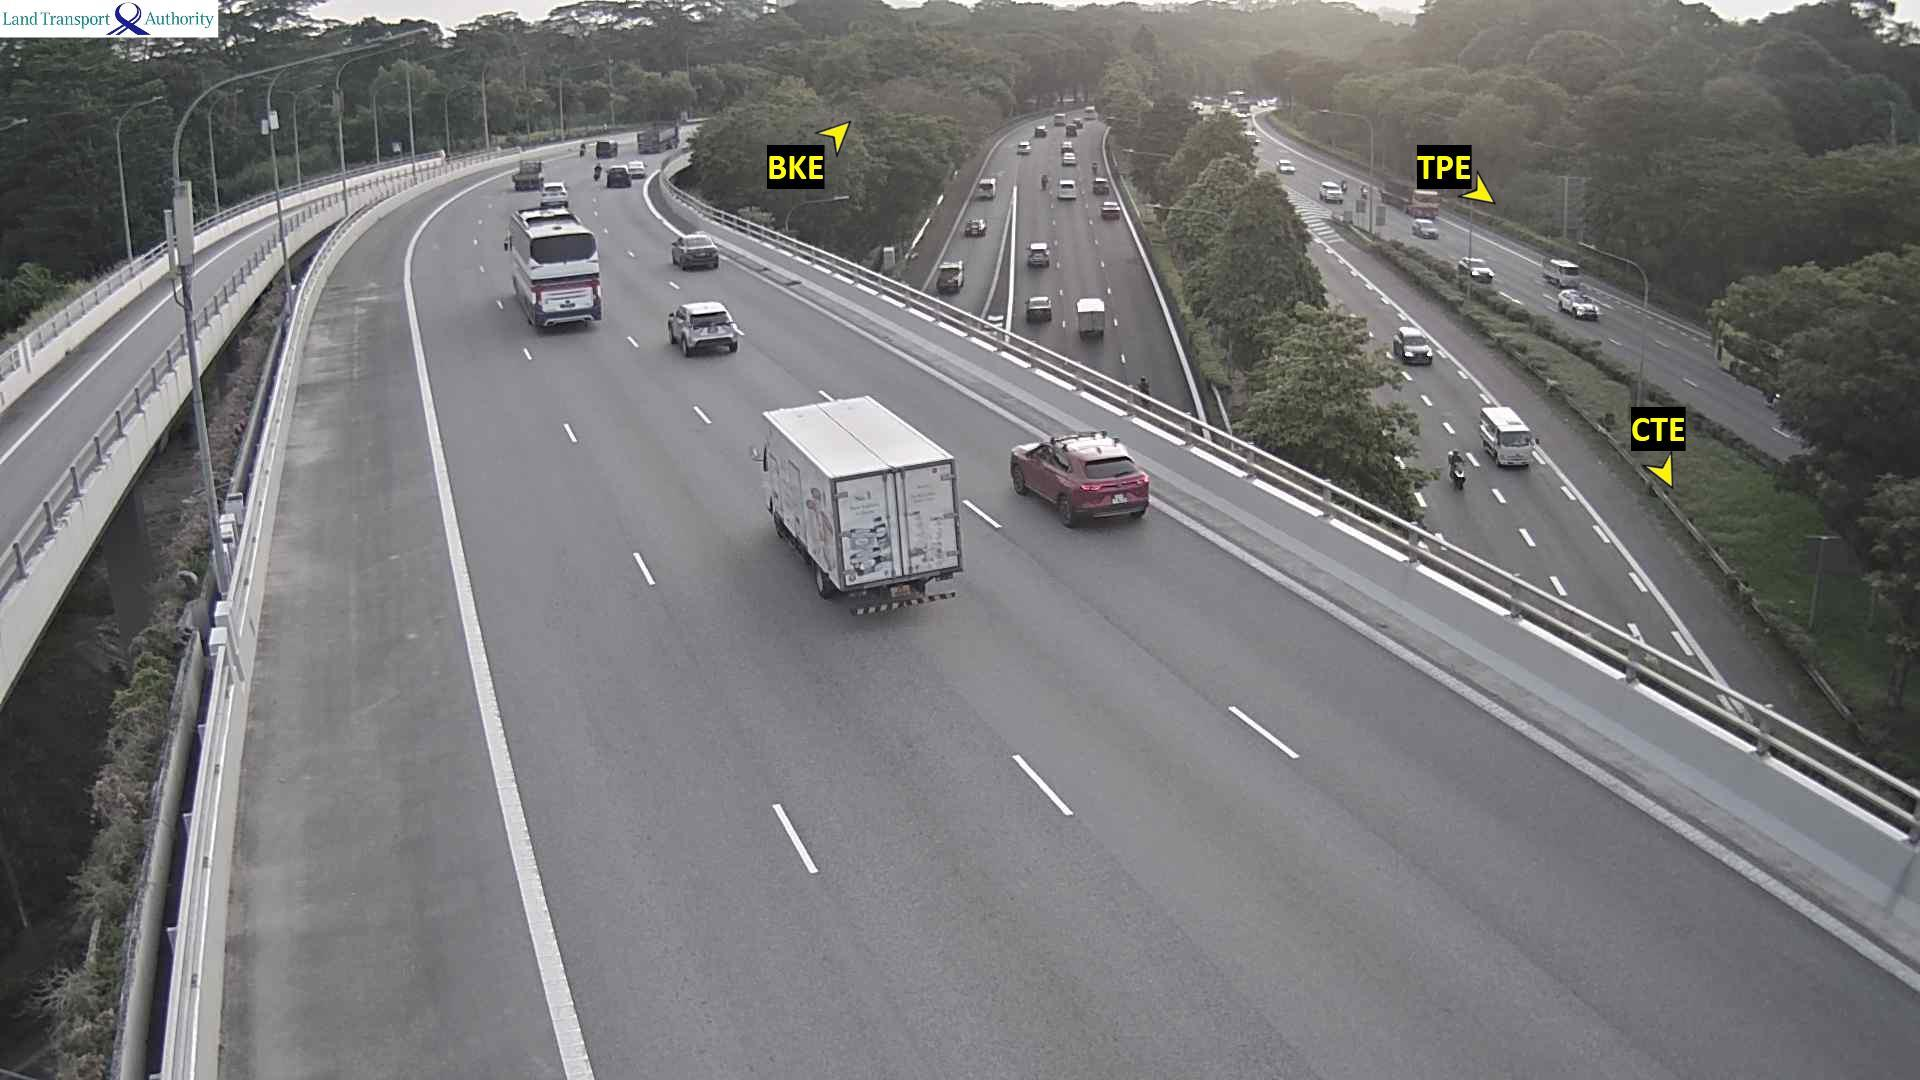incoming: (1495, 422, 1534, 469), (1411, 187, 1443, 222), (1399, 339, 1435, 367), (1573, 297, 1601, 320), (1469, 261, 1497, 282), (1557, 264, 1581, 287), (1453, 467, 1466, 491), (1423, 224, 1440, 237)
